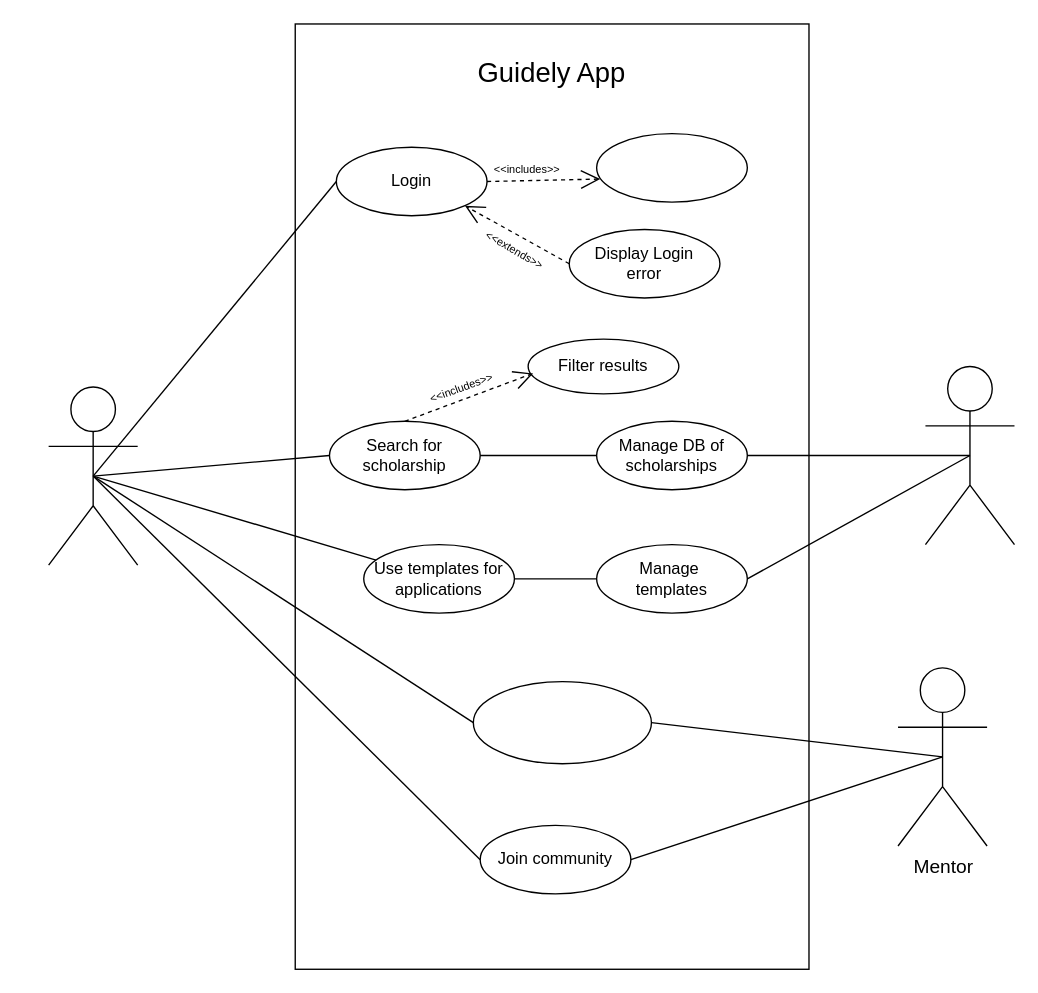
The diagram is 1038 pixels wide and 993 high, and some of its shapes have lost their labels. The box of each missing label's shape, as (x1, y1, x2, y2) in pixels:
Admin: (924, 365, 1014, 545)
Book a mentorship session: (472, 680, 651, 764)
User - Student / Fresh Graduate: (47, 386, 138, 565)
Verify password: (595, 132, 747, 202)
